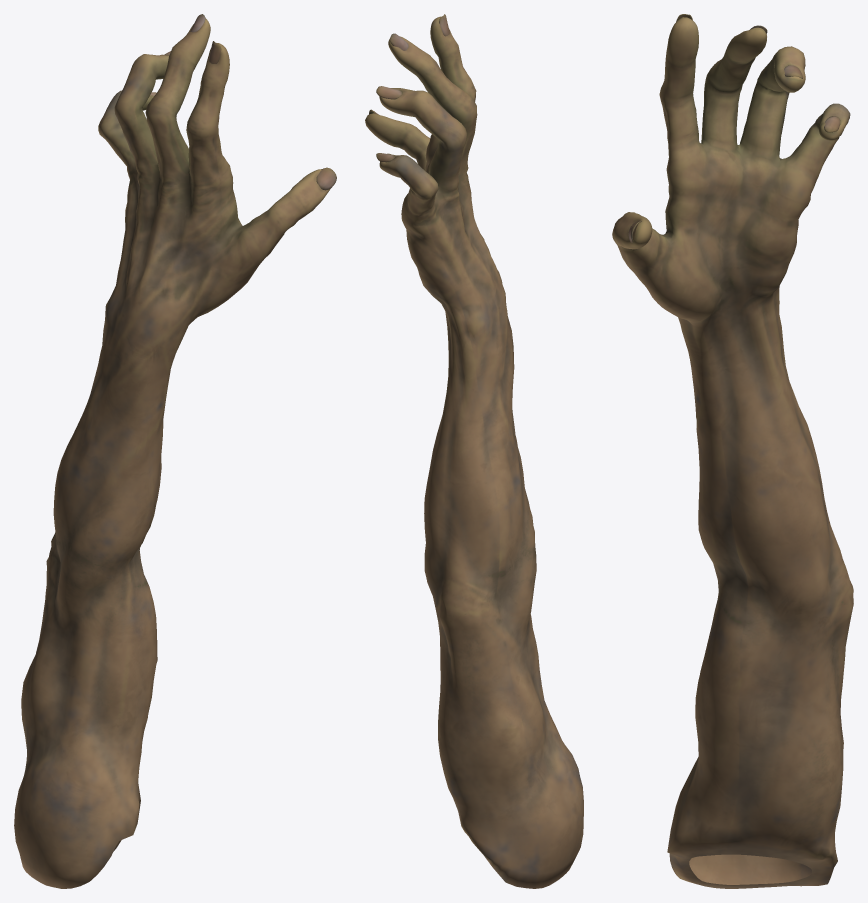
The model's file is zombie_hand.glb.
The picture shows the model from 3 angles, left to right: view 1: azimuth 30°, elevation 25°; view 2: azimuth 150°, elevation 25°; view 3: azimuth 270°, elevation 25°; orthographic projection. The views are drawn at different scales.
Visible parts, largest first — view 1: Default_lambert1_0; view 2: Default_lambert1_0; view 3: Default_lambert1_0.
Boxes of the visible parts, x1,y1,x2,y2 form: Default_lambert1_0: (14,14,336,888); Default_lambert1_0: (365,14,583,888); Default_lambert1_0: (612,14,853,888).
Size of the model in its own units: 0.0362 by 0.1088 by 0.0249.
1 material, 1 textured.
